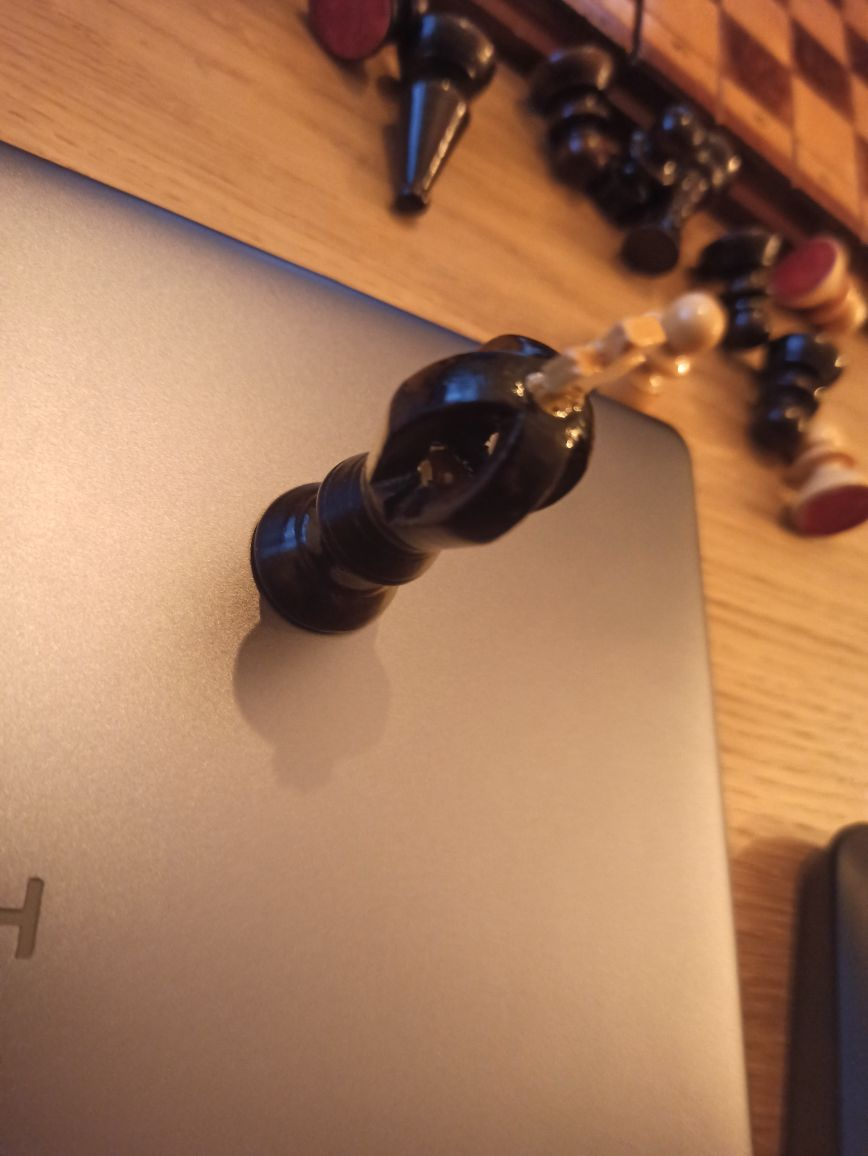bking: (248, 314, 662, 639)
